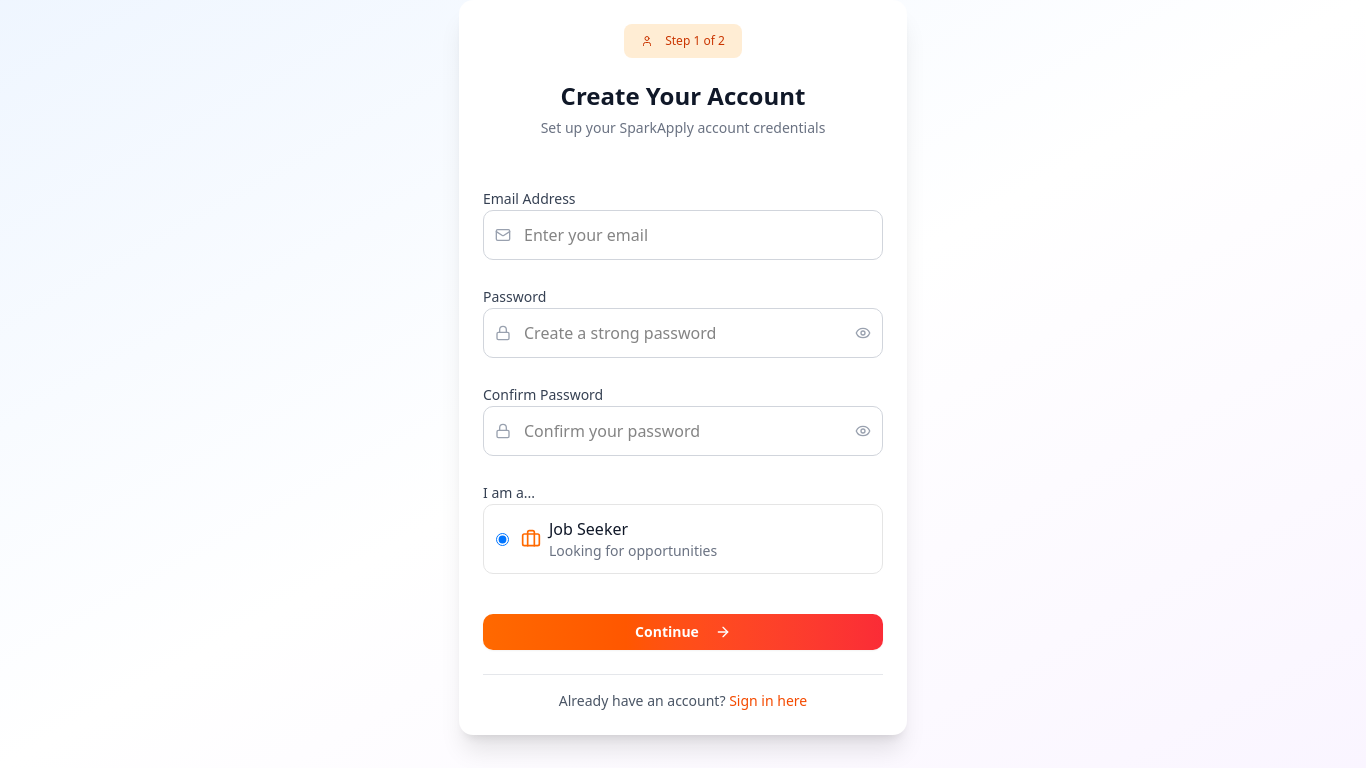
Test: RegisterForm › validates password fields in step 1
Type "test@example.com" into the field labelled "Email Address" at coordinates (683, 235), box [483,210,883,260]
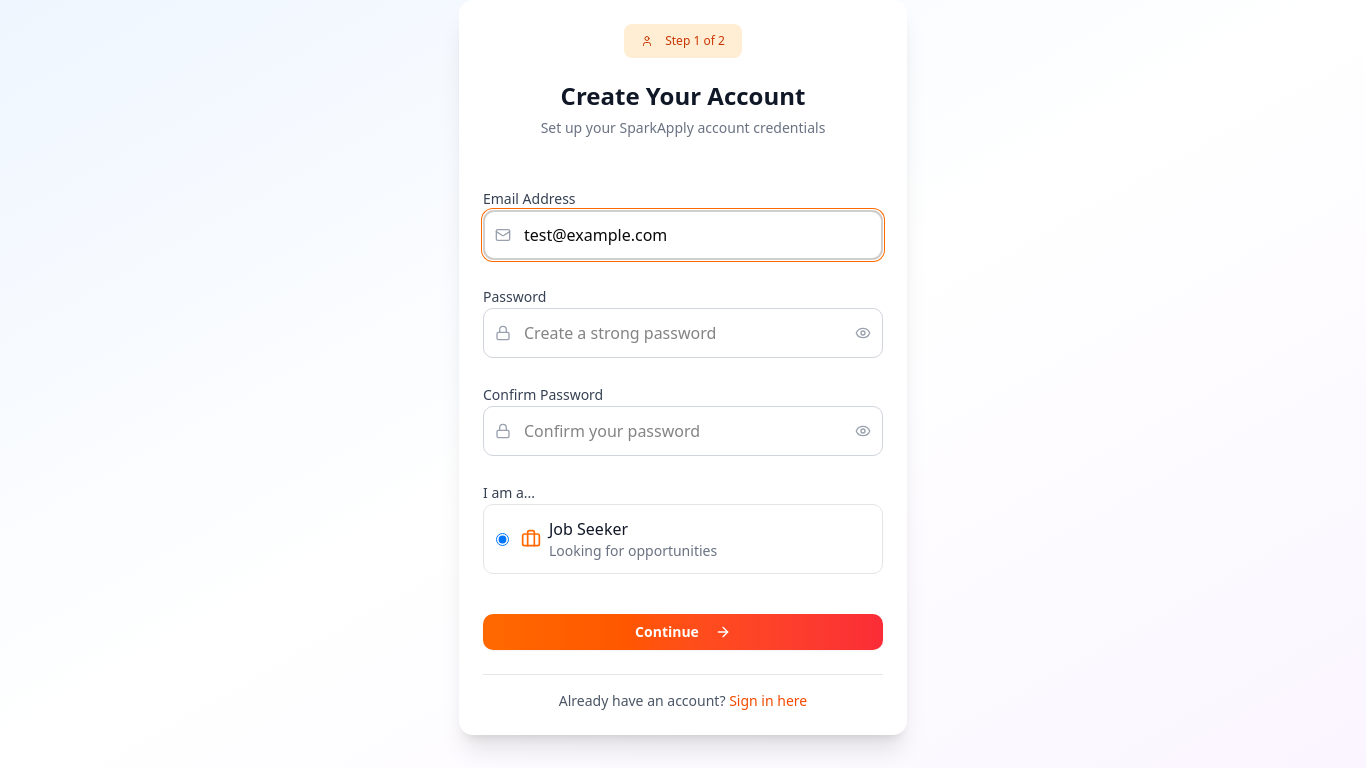
Type "123" into the password field labelled "Password" at coordinates (683, 333), box [483,308,883,358]
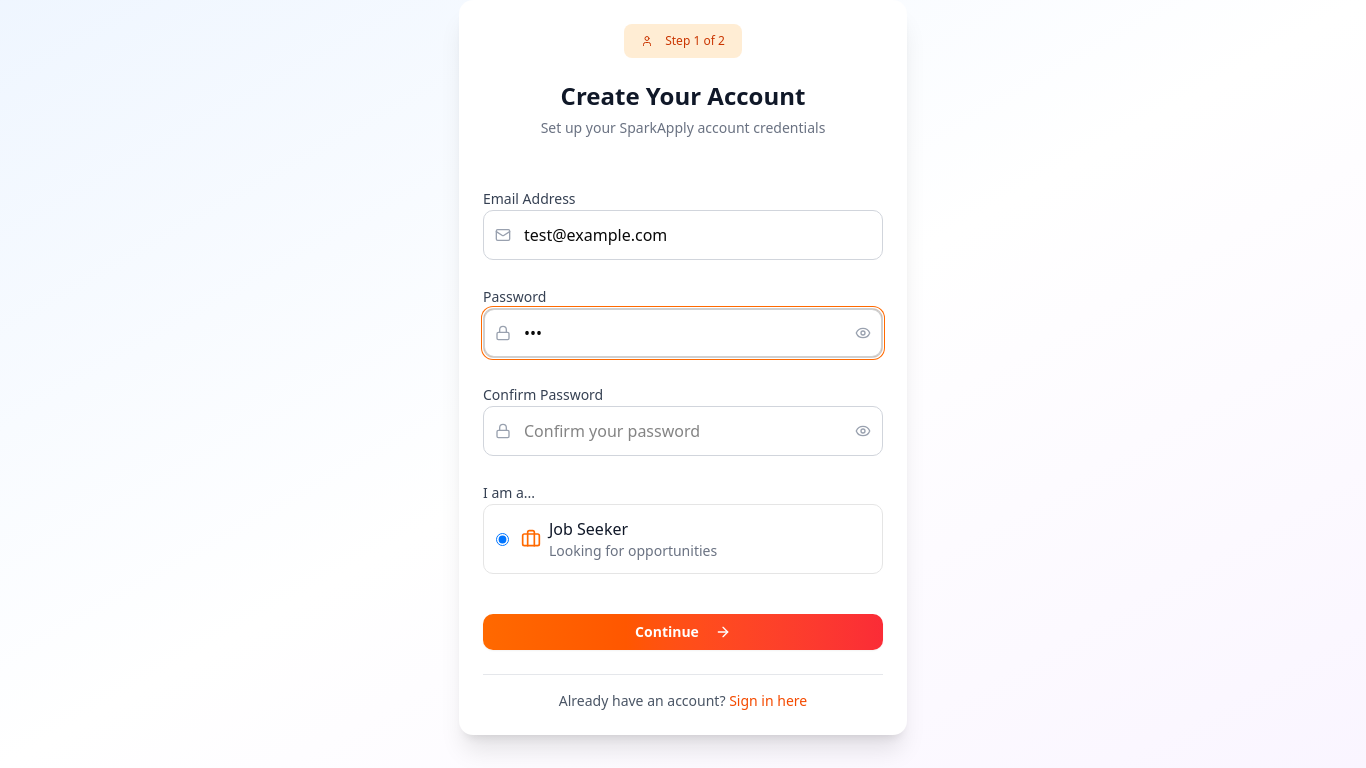
Type "456" into the password field labelled "Confirm Password" at coordinates (683, 431), box [483,406,883,456]
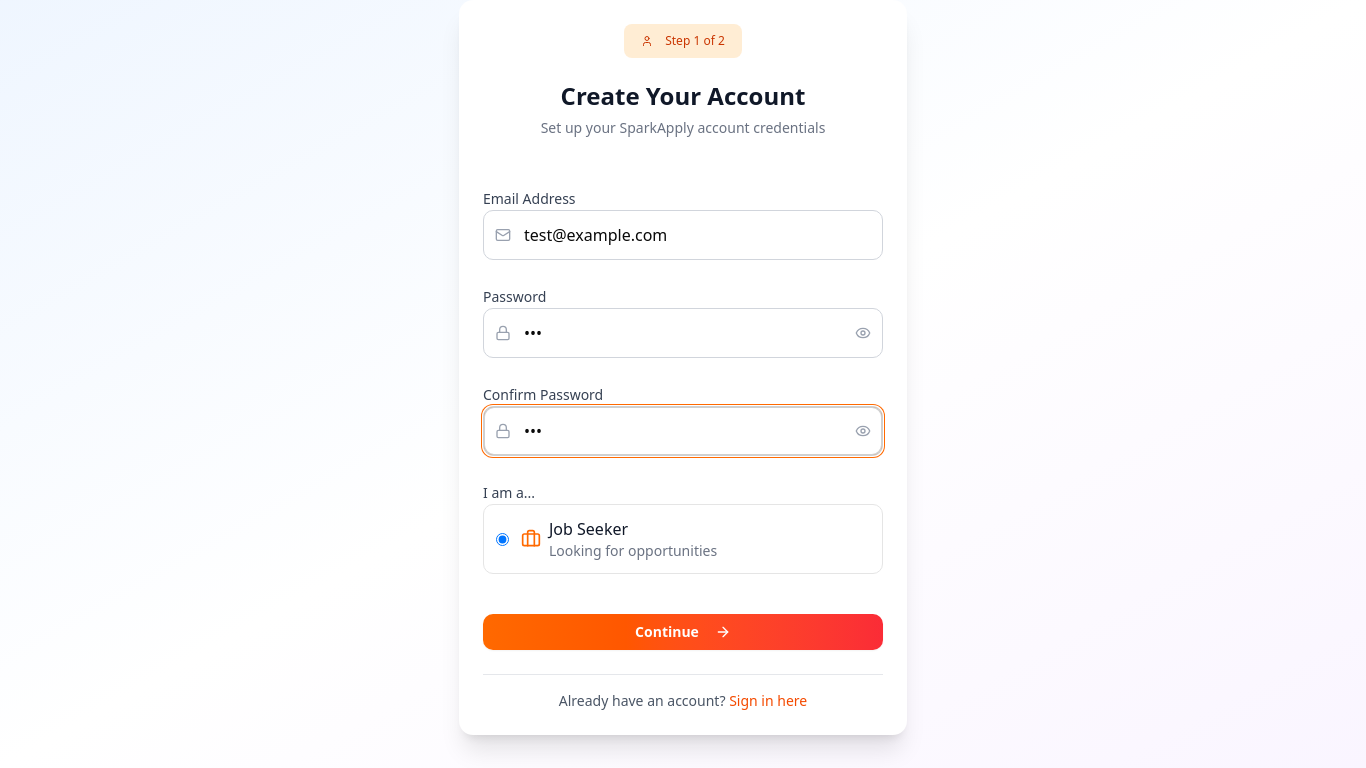
Click the button "Continue" at coordinates (683, 632), box [483,614,883,650]
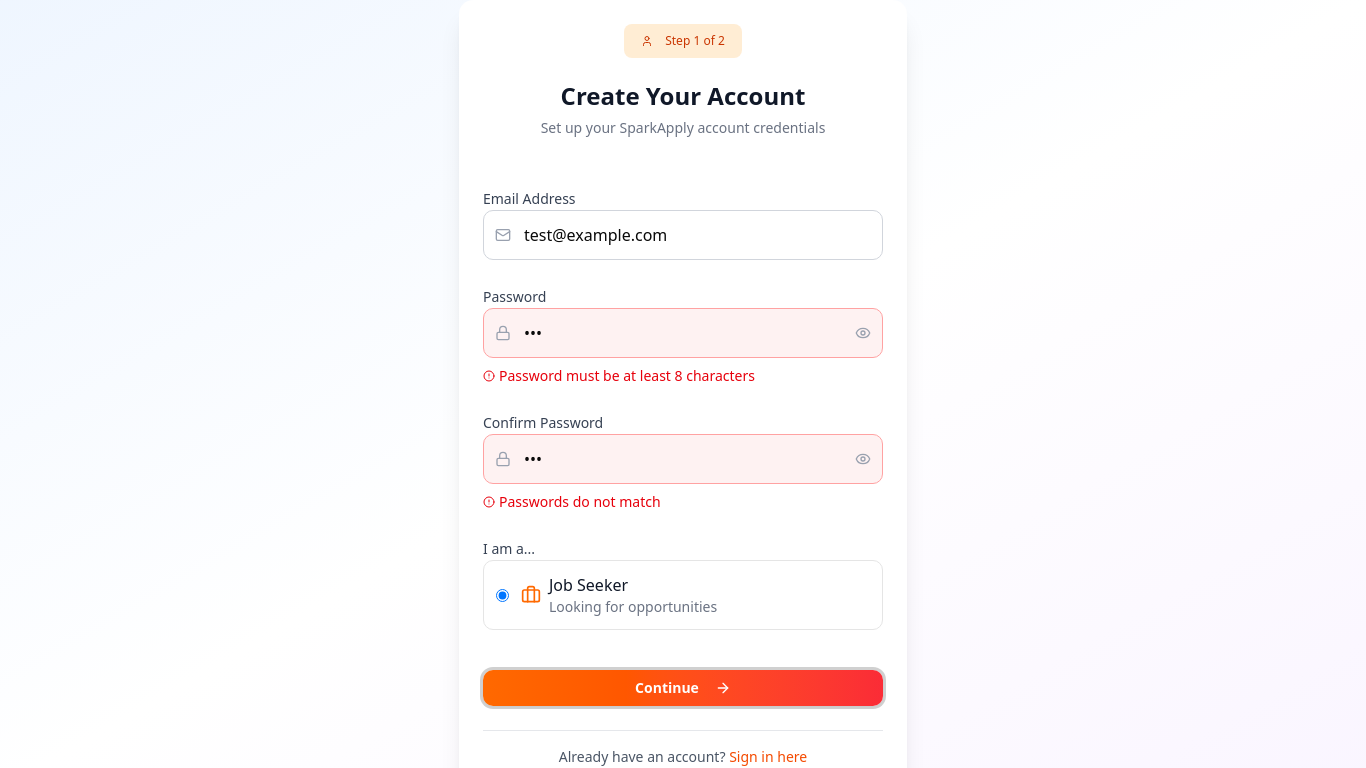
Expected: the text "Password must be at least 8 characters" is shown, [483,366,755,385]
